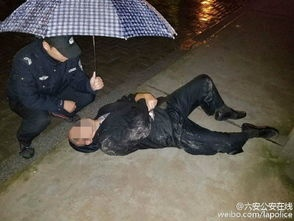falling: (70, 70, 280, 166)
